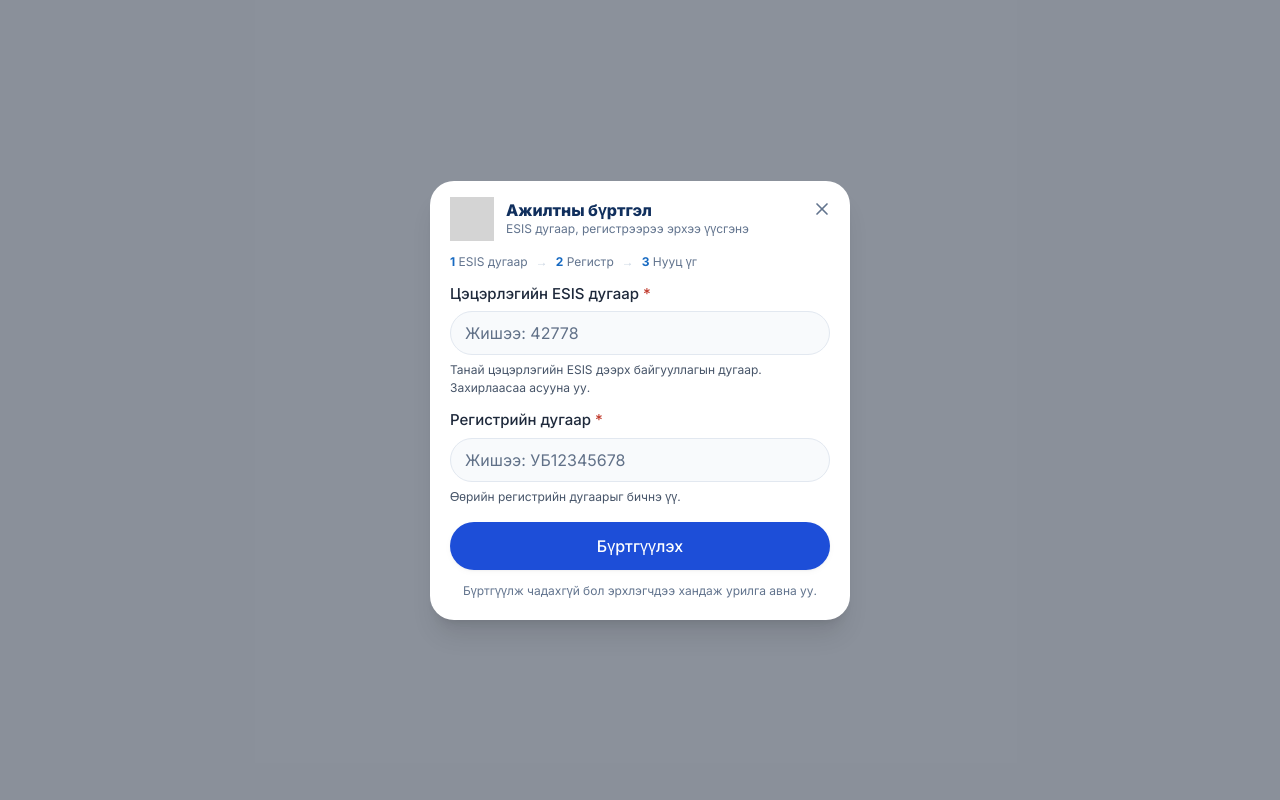
Scenario: бүртгүүлэх маягт › серверийн буцаасан мессежийг яг тэр хэвээр харуулна
Type "9999999" into the field labelled "Цэцэрлэгийн ESIS дугаар *" at (640, 333), box x1=450 y1=311 x2=830 y2=355
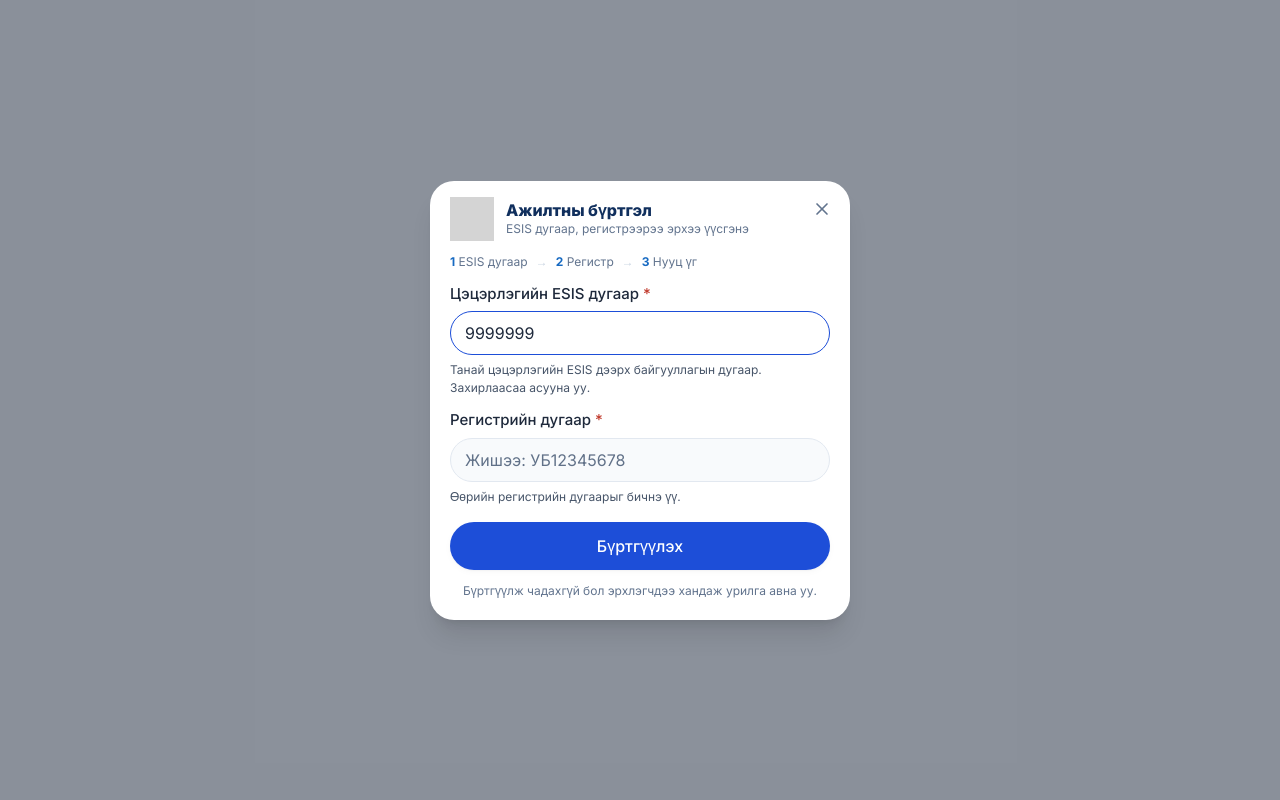
Type "УЛ24270406" into the field labelled "Регистрийн дугаар *" at (640, 460), box x1=450 y1=438 x2=830 y2=482
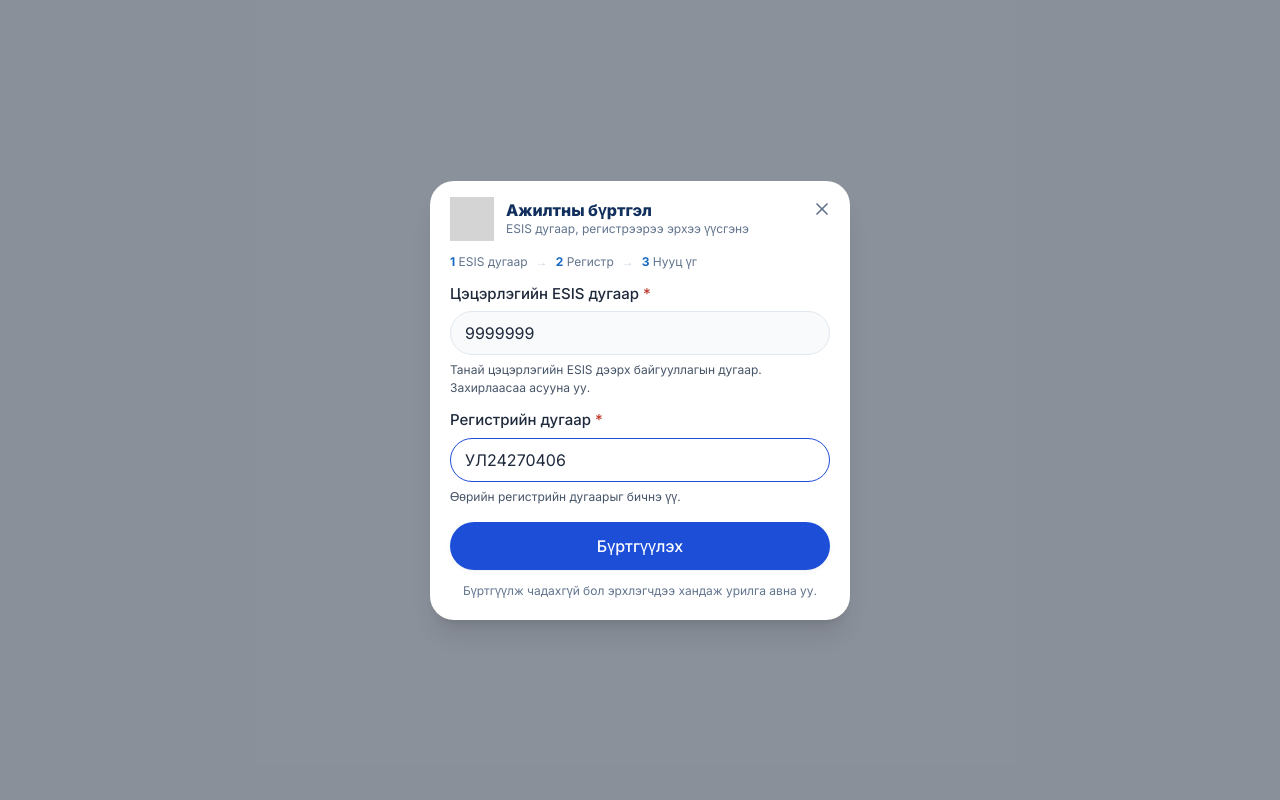
Click the button "Бүртгүүлэх" at (640, 546), box x1=450 y1=522 x2=830 y2=570
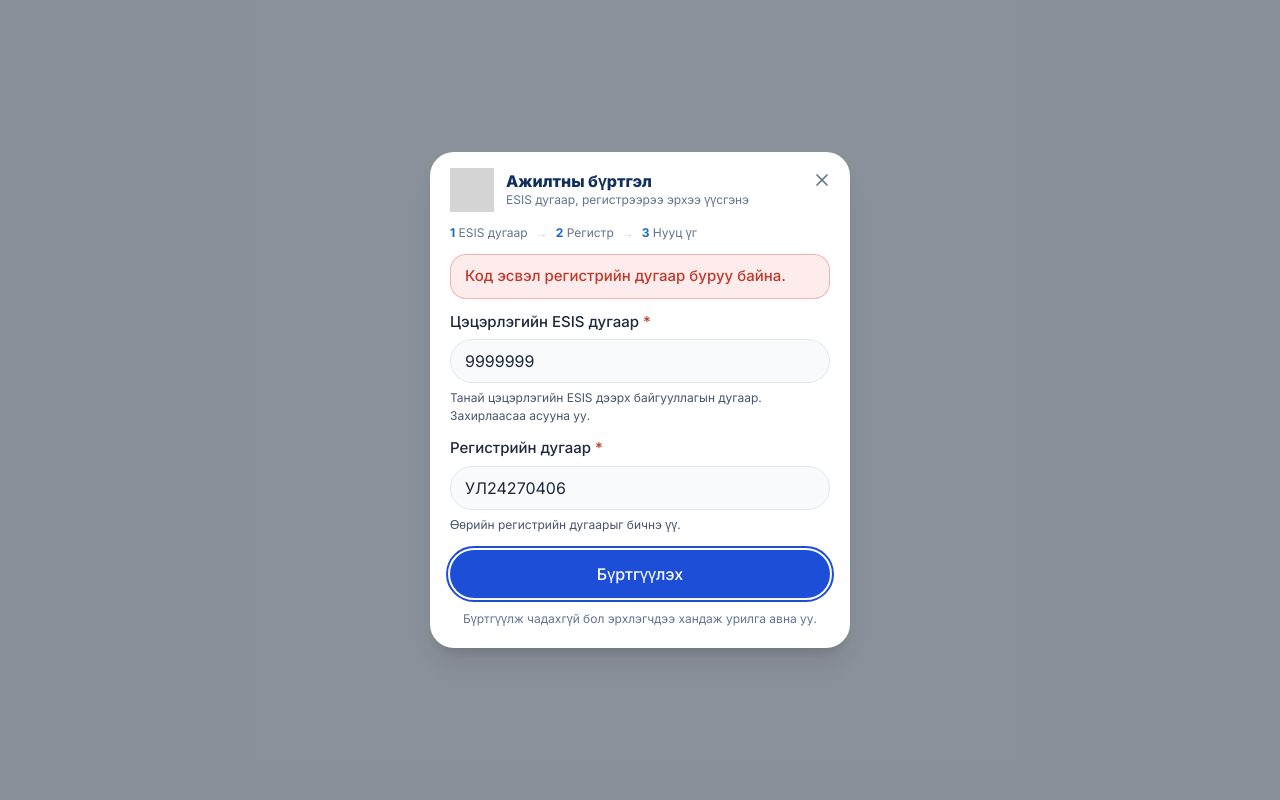
Check: the text "Код эсвэл регистрийн дугаар буруу байна." is shown, box x1=450 y1=254 x2=830 y2=299
